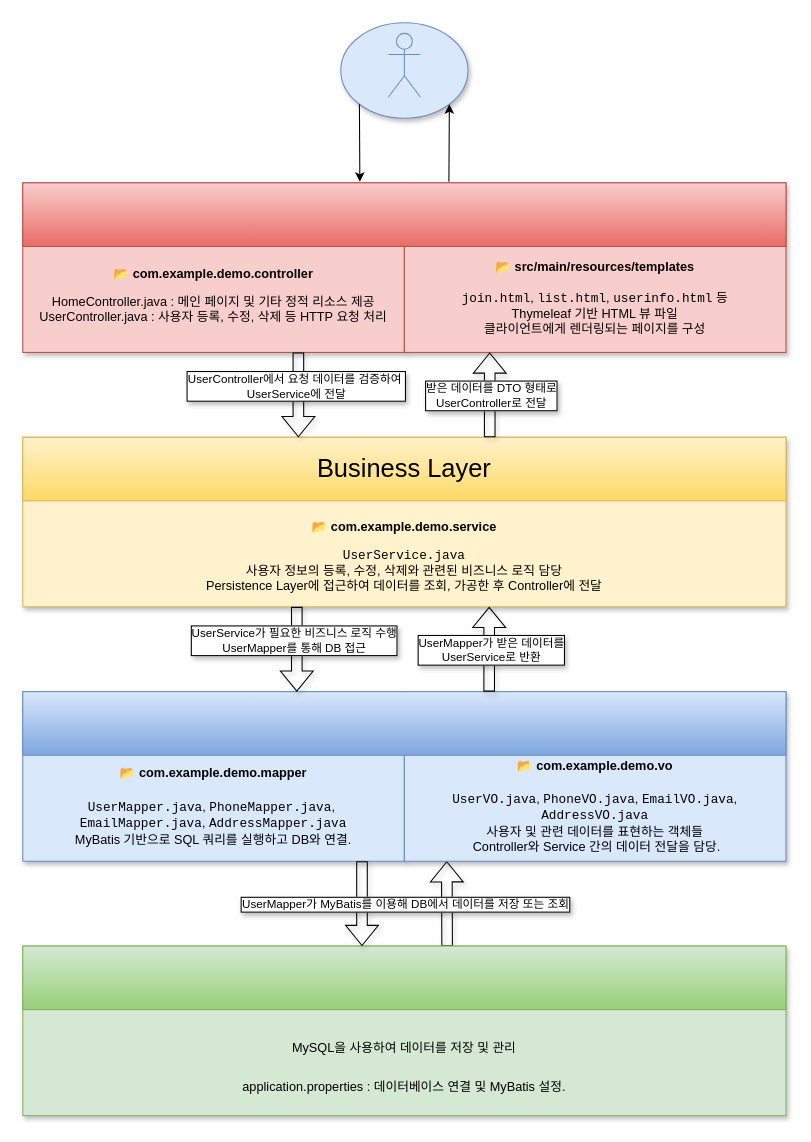
The diagram is 811 pixels wide and 1142 high, and some of its shapes have lost their labels. Each missing label, with the centre of its shape:
Data Storage: point (404, 977)
Persistance Layer: point (404, 723)
Presentation Layer: point (404, 214)
사용자: point (403, 64)
